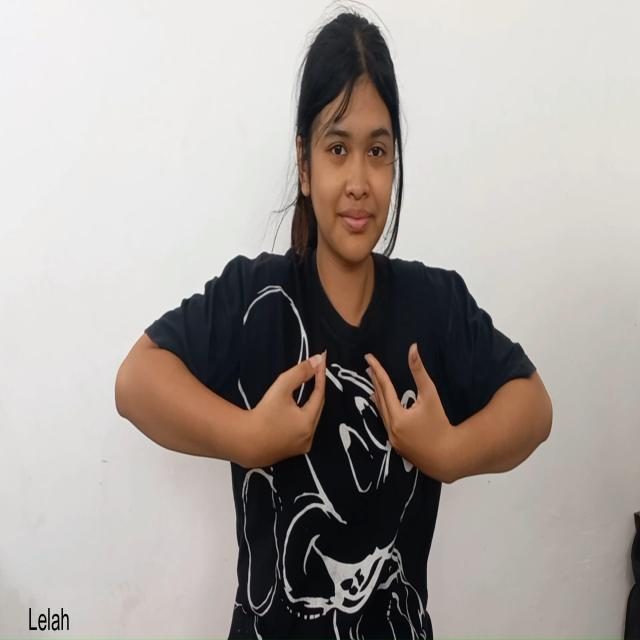Lelah -BISINDO-: (107, 332, 562, 490)
